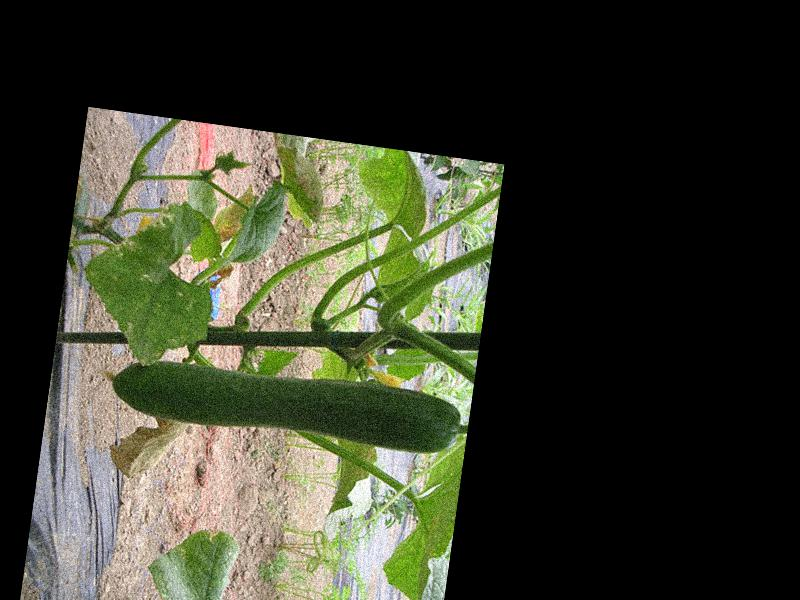Cucumber: (99, 346, 464, 459)
